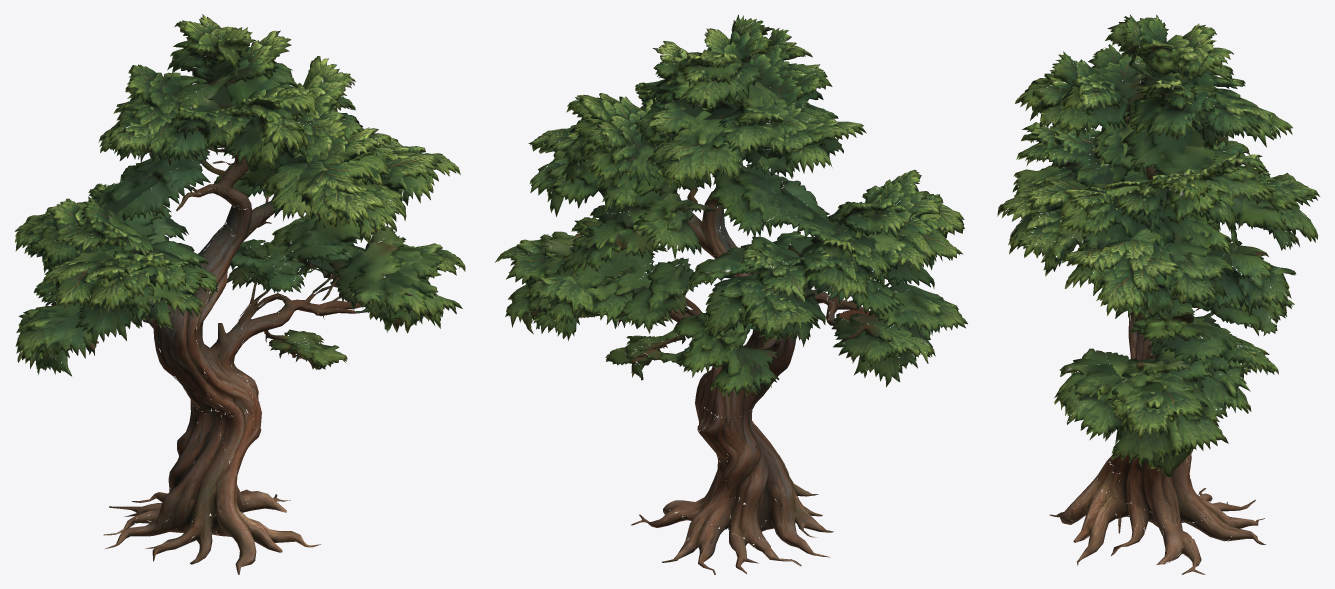
The model's file is hi3d-tree.glb.
3 views of the same model, side by side, from view 1: azimuth 30°, elevation 25°; view 2: azimuth 150°, elevation 25°; view 3: azimuth 270°, elevation 25° (orthographic). The views are drawn at different scales.
Parts seen in each view (by area): view 1: tree; view 2: tree; view 3: tree.
Part boxes in pixels (x1,y1,x2,y2): tree: (14,14,465,574); tree: (495,14,967,574); tree: (997,14,1319,574).
Bounding box in the file's own units: 5.68 × 6 × 3.41.
Materials: 1 (1 with a texture image).
